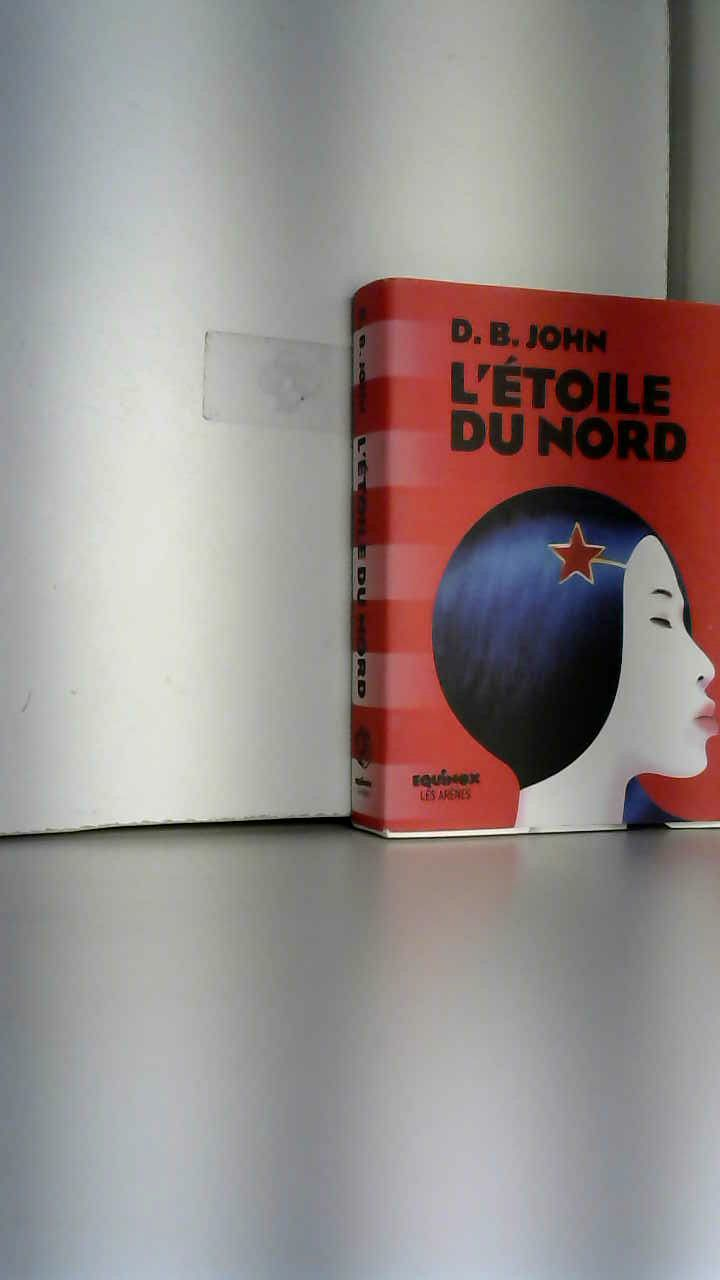book: (320, 250, 718, 863)
